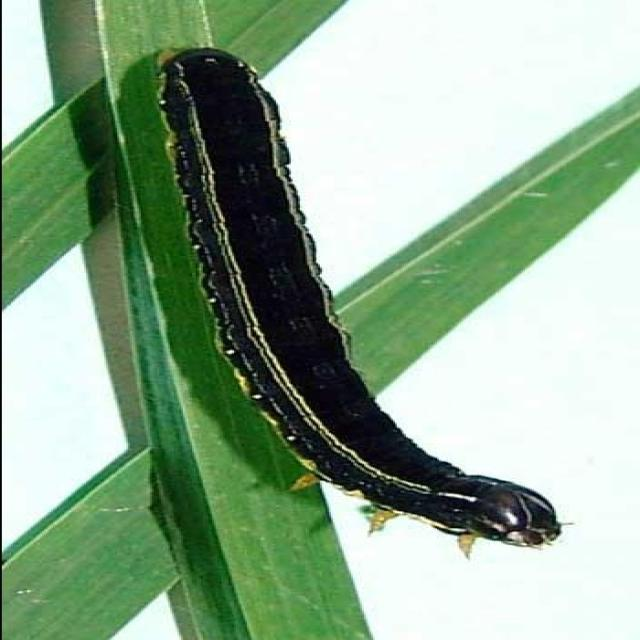army worm: (141, 49, 574, 550)
